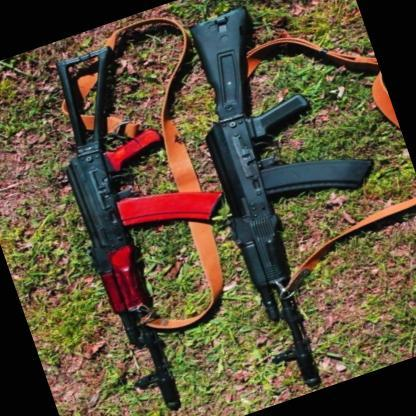rifle: (162, 0, 416, 395), (27, 25, 280, 416)
